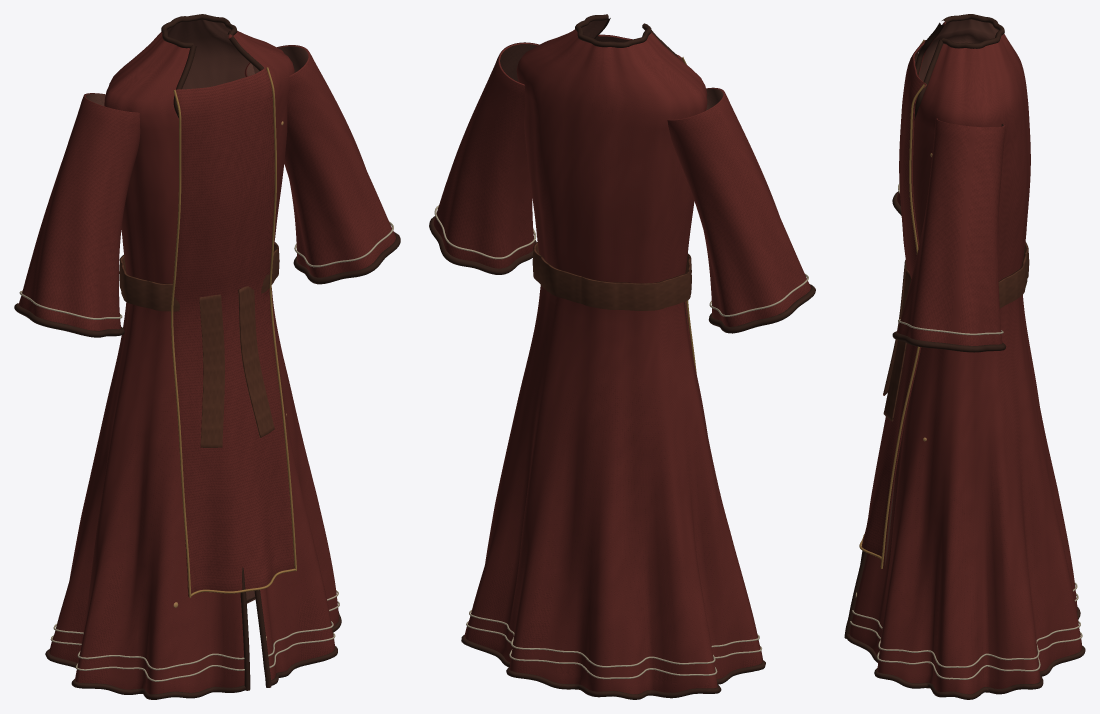
3 views of the same model, side by side, from view 1: azimuth 30°, elevation 25°; view 2: azimuth 150°, elevation 25°; view 3: azimuth 270°, elevation 25° (orthographic).
Parts seen in each view (by area): view 1: woven wool, tanned leather, oiled strap leather, brushed wool lining, aged alloy edge, waxed linen thread; view 2: woven wool, tanned leather, oiled strap leather, waxed linen thread, brushed wool lining; view 3: woven wool, oiled strap leather, tanned leather, brushed wool lining, waxed linen thread, aged alloy edge.
Boxes of the visible parts, x1=… form: woven wool: x1=18, y1=31, x2=395, y2=694; tanned leather: x1=119, y1=242, x2=279, y2=447; oiled strap leather: x1=14, y1=14, x2=400, y2=699; brushed wool lining: x1=85, y1=19, x2=308, y2=603; aged alloy edge: x1=171, y1=67, x2=296, y2=597; waxed linen thread: x1=19, y1=221, x2=393, y2=681; woven wool: x1=433, y1=29, x2=810, y2=694; tanned leather: x1=532, y1=242, x2=691, y2=310; oiled strap leather: x1=429, y1=14, x2=815, y2=699; waxed linen thread: x1=434, y1=205, x2=808, y2=679; brushed wool lining: x1=500, y1=19, x2=723, y2=329; woven wool: x1=849, y1=22, x2=1082, y2=694; oiled strap leather: x1=844, y1=14, x2=1085, y2=699; tanned leather: x1=883, y1=242, x2=1029, y2=421; brushed wool lining: x1=884, y1=19, x2=1003, y2=566; waxed linen thread: x1=850, y1=183, x2=1082, y2=679; aged alloy edge: x1=859, y1=39, x2=925, y2=568.
Bounding box in the file's own units: 0.868 × 1.42 × 0.5043.
Materials: 8 (6 with a texture image).
